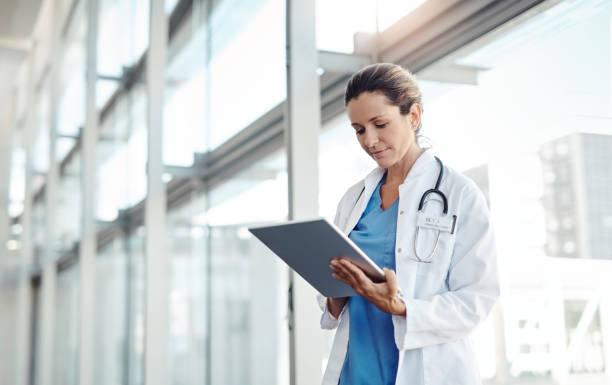Gloves Off: (331, 258, 405, 315)
Goggles off: (348, 117, 402, 130)
Hairnet Off: (344, 63, 422, 115)
Mask Off: (360, 139, 412, 169)
Suit Off: (321, 151, 498, 383)
